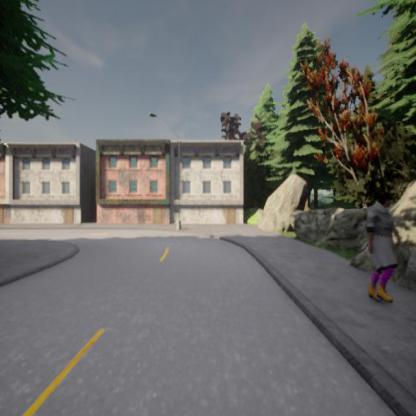person: (365, 195, 399, 303)
